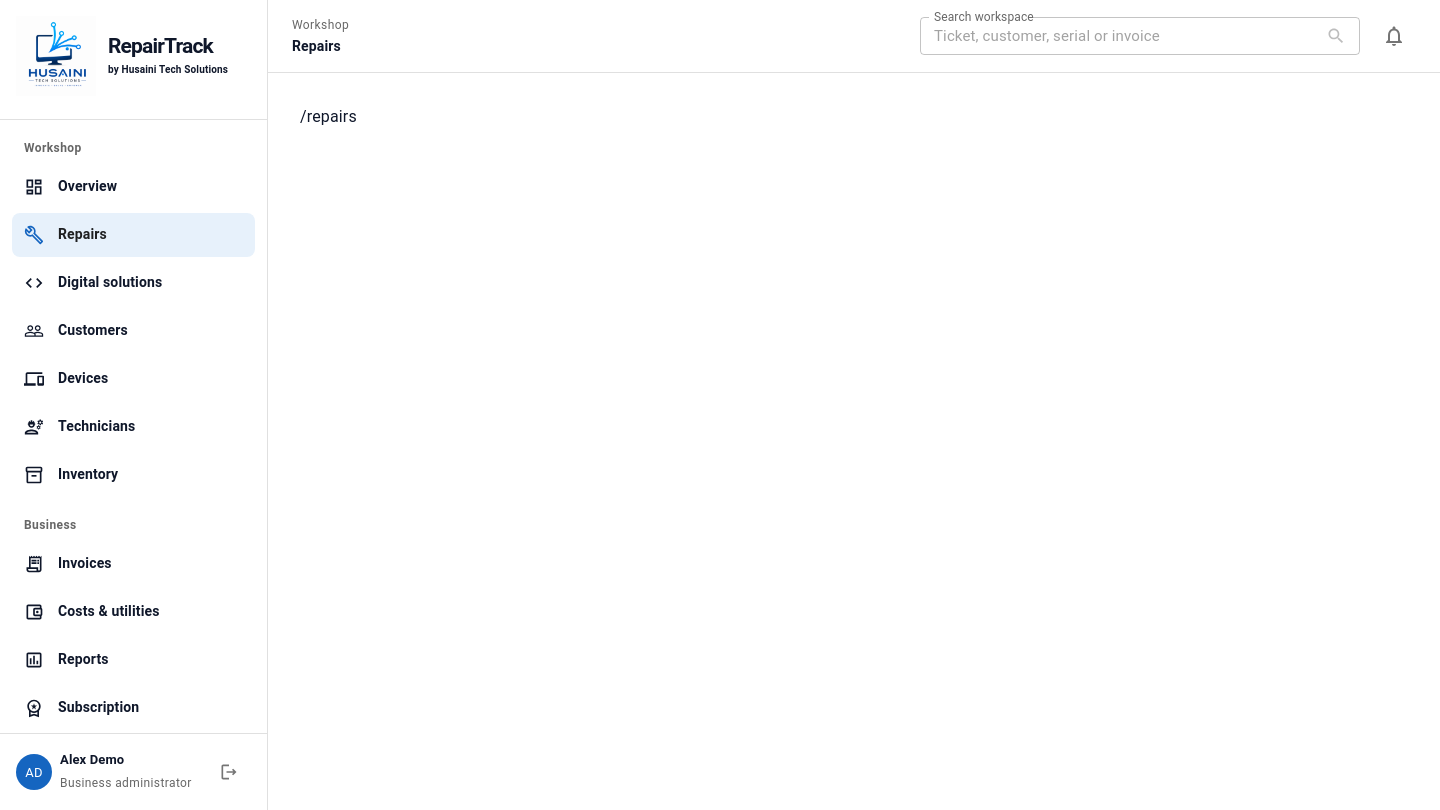
Test: Workshop ledger shell › submits real workspace search and keeps notification navigation functional
In the field labelled "Search workspace": (1113, 36) [920,17,1306,55], type "RT 42"
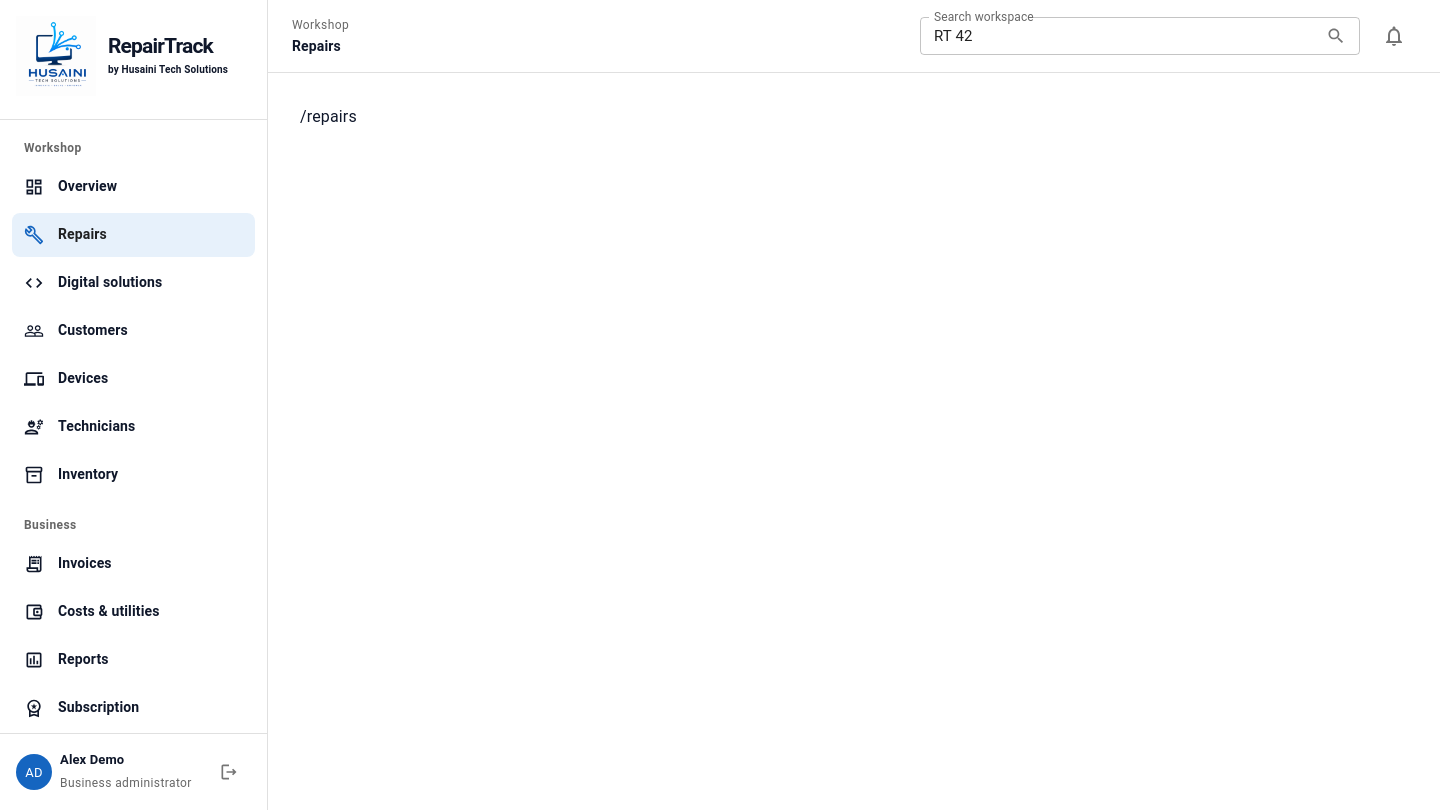
Submit the form, box [920,17,1360,55]
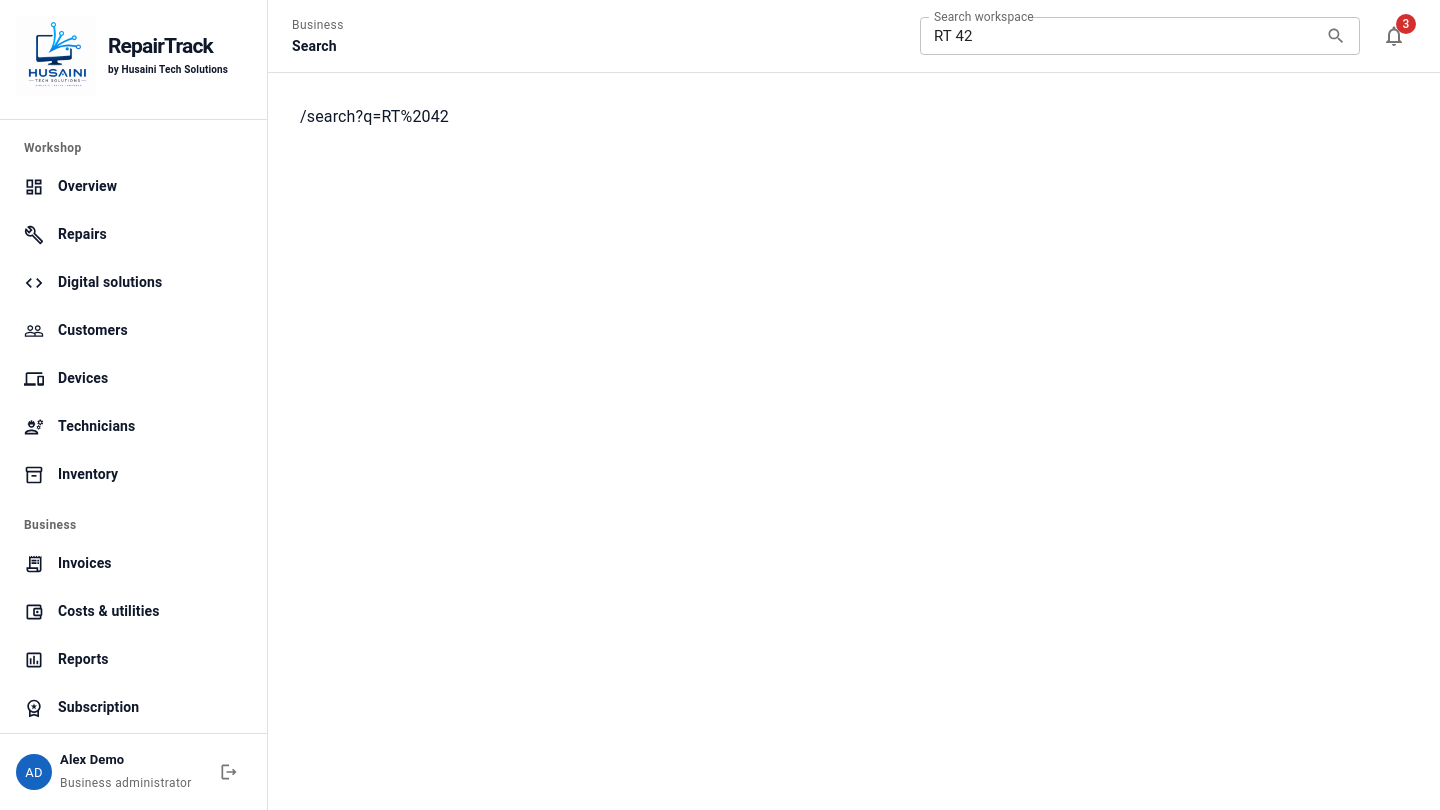
Now the text with test id "current-path" reads "/search?q=RT%2042", box [300,107,449,126]
Click the button named "Notifications, 3 unread": (1394, 36) [1372,14,1416,58]
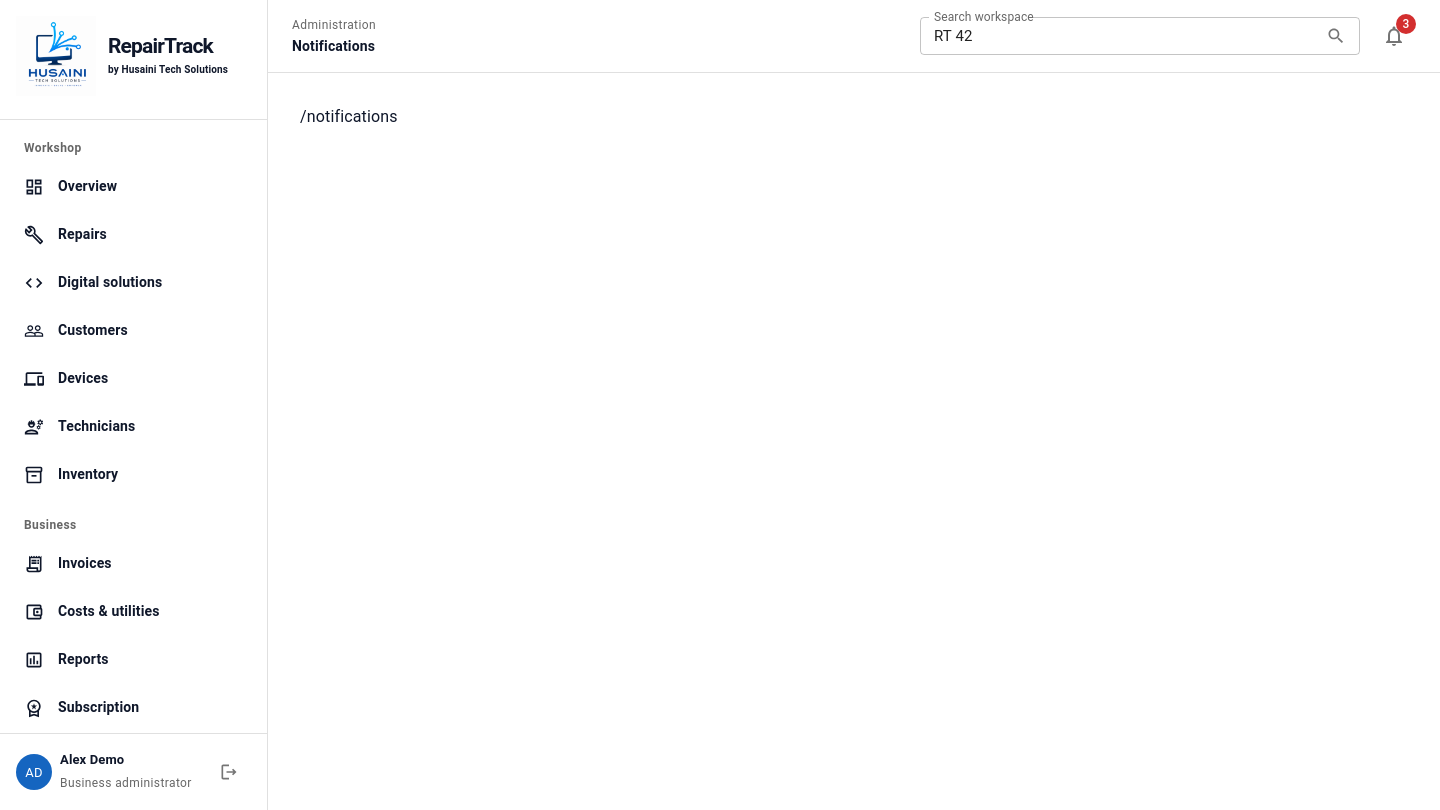
Now the text with test id "current-path" reads "/notifications", box [300,107,398,126]
